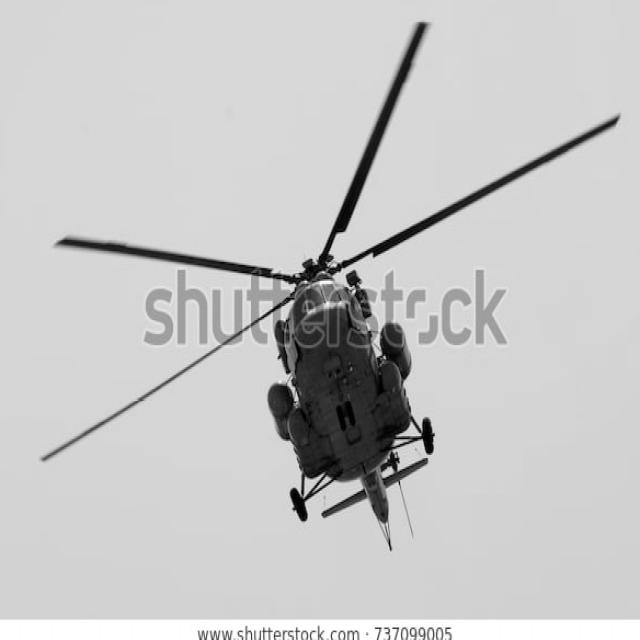helicopter: (50, 28, 620, 553)
